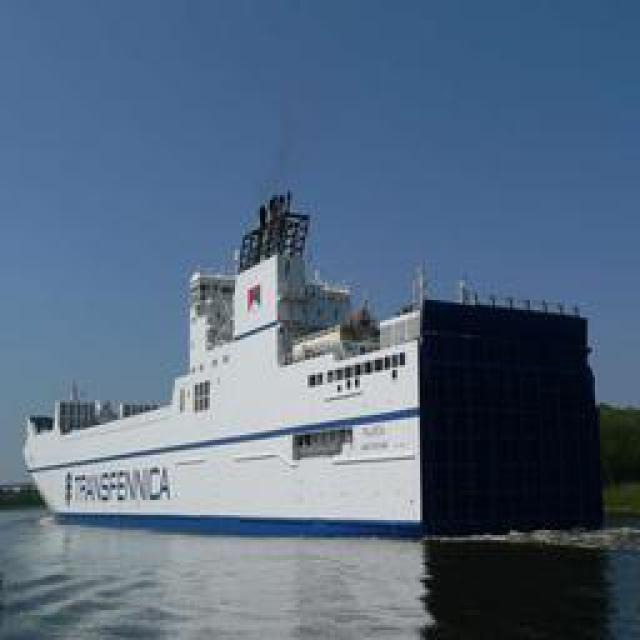Ship: (36, 164, 486, 534)
